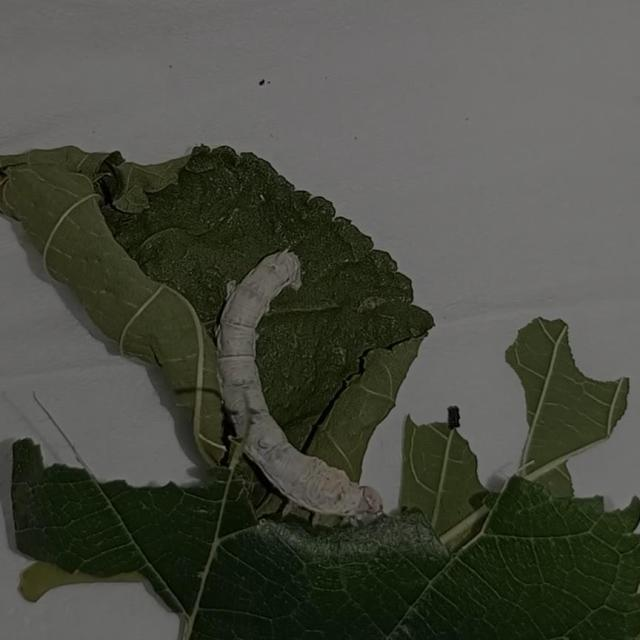Healthy: (193, 226, 400, 554)
